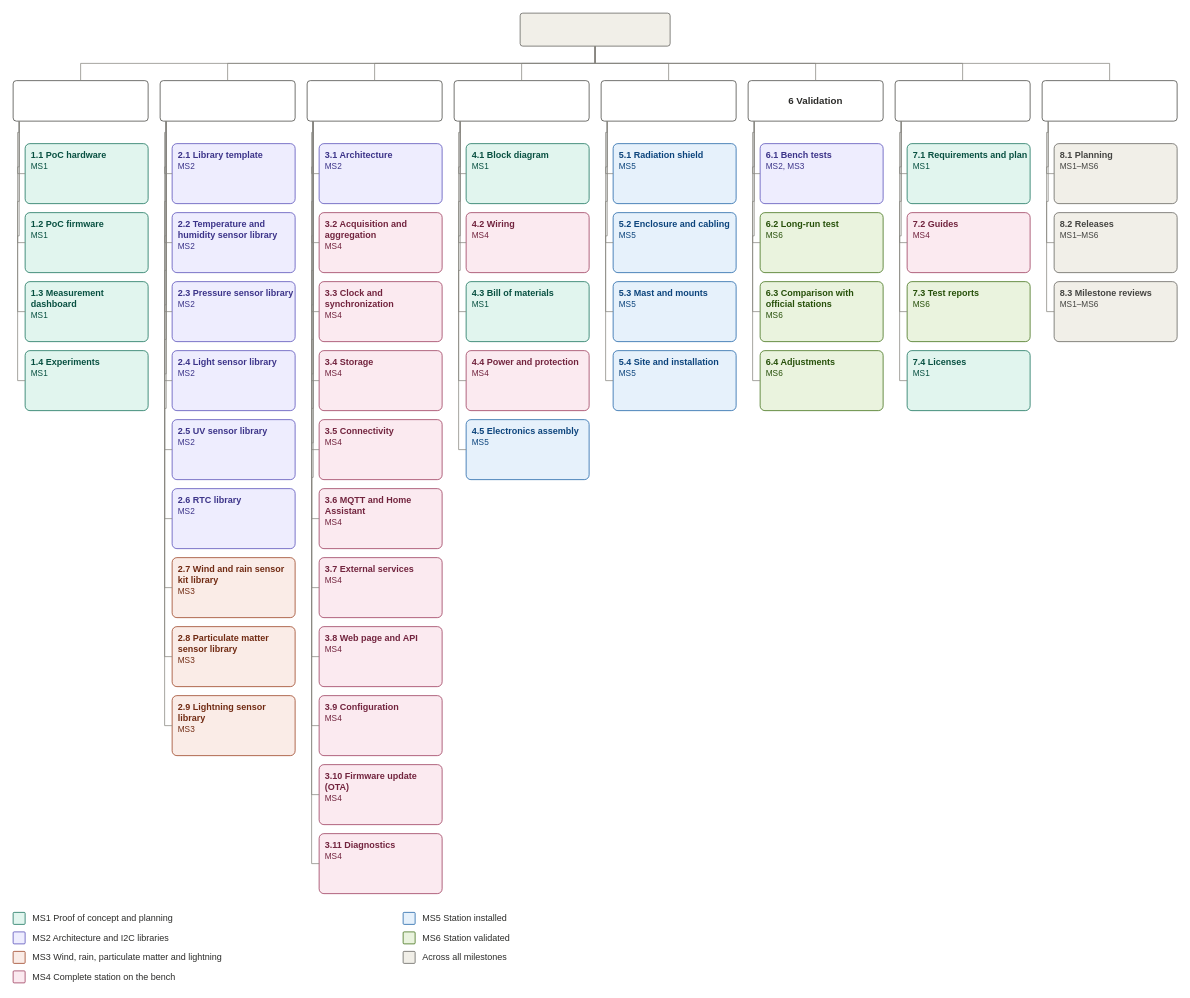
The diagram is 1190 pixels wide and 998 high, and some of its shapes have lost their labels. The shapes that lost their labels are listed below. From the top down, each one's centre as x and y in pixels, then its label:
At point (594, 29): "PWS".
At point (80, 100): "1 Proof of concept".
At point (227, 100): "2 Sensor libraries".
At point (374, 100): "3 Main firmware".
At point (521, 100): "4 Hardware".
At point (668, 100): "5 Mechanics and installation".
At point (962, 100): "7 Documentation".
At point (1109, 100): "8 Project management".
